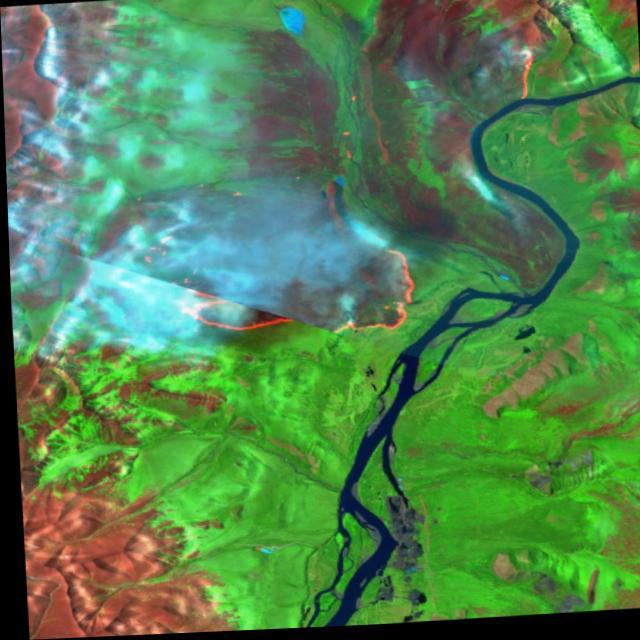fire: (172, 246, 423, 342), (501, 50, 552, 117)
